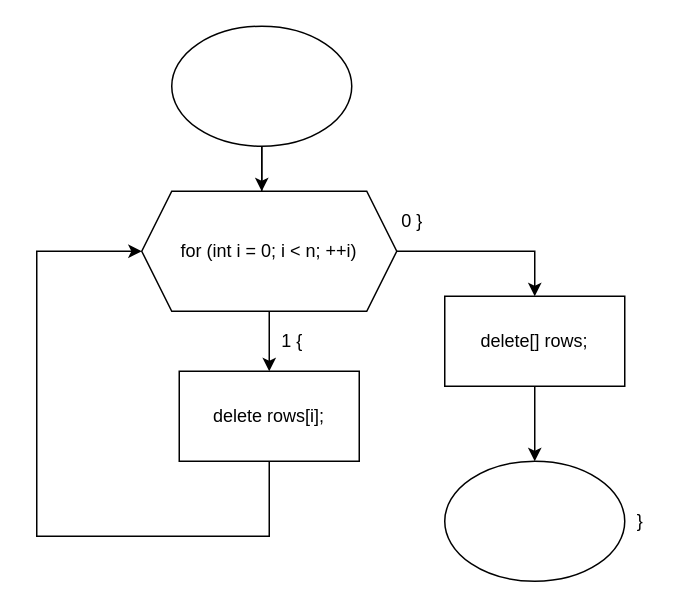
Image size: 681x608. Some labels were removed from this diagram. The centre of each missing label's shape, as x and y in pixels:
"return;" goes at point (534, 520).
"void fill_matrix(char** rows, unsigned int n)" goes at point (261, 85).
